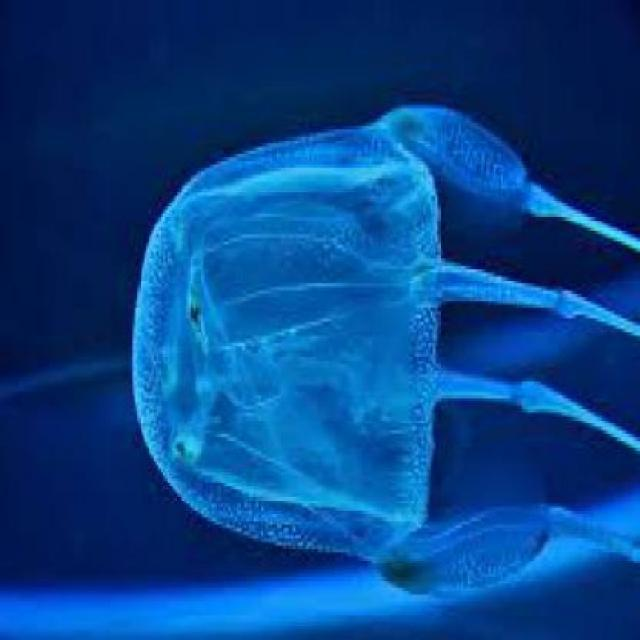Jellyfish: (123, 94, 639, 606)
